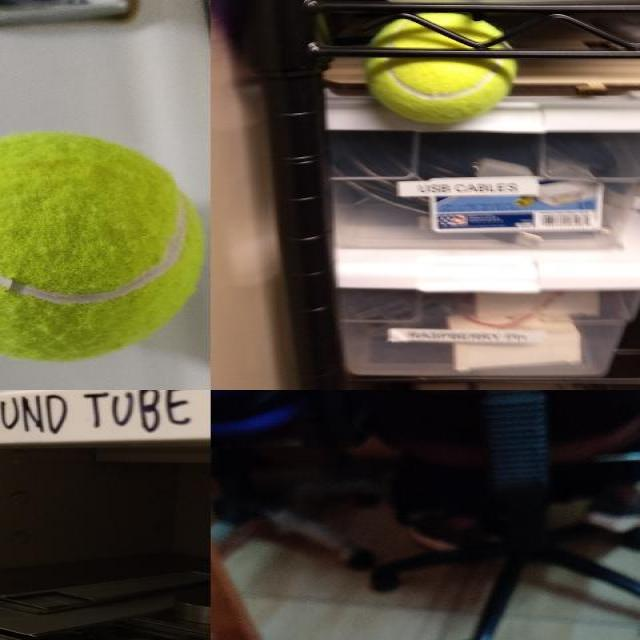tennis-ball: (0, 129, 208, 364), (365, 14, 519, 125)
